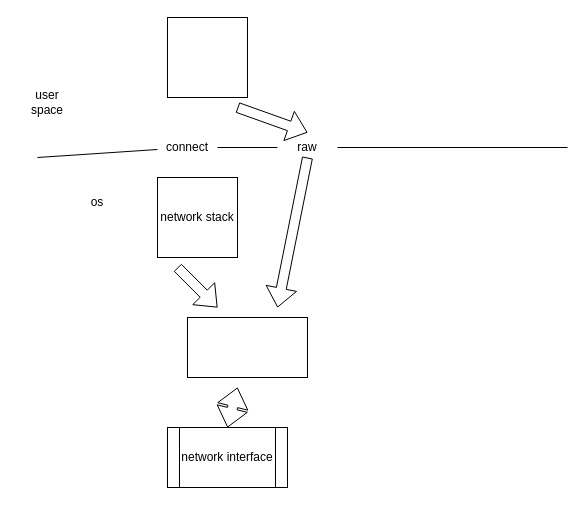
The diagram is 586 pixels wide and 505 high, and some of its shapes have lost their labels. The shapes that lost their labels are listed below. From the top down, each one's centre as x and y in pixels, then its label:
At point (207, 57): "flood.py".
At point (247, 347): "driver for network intercace".
